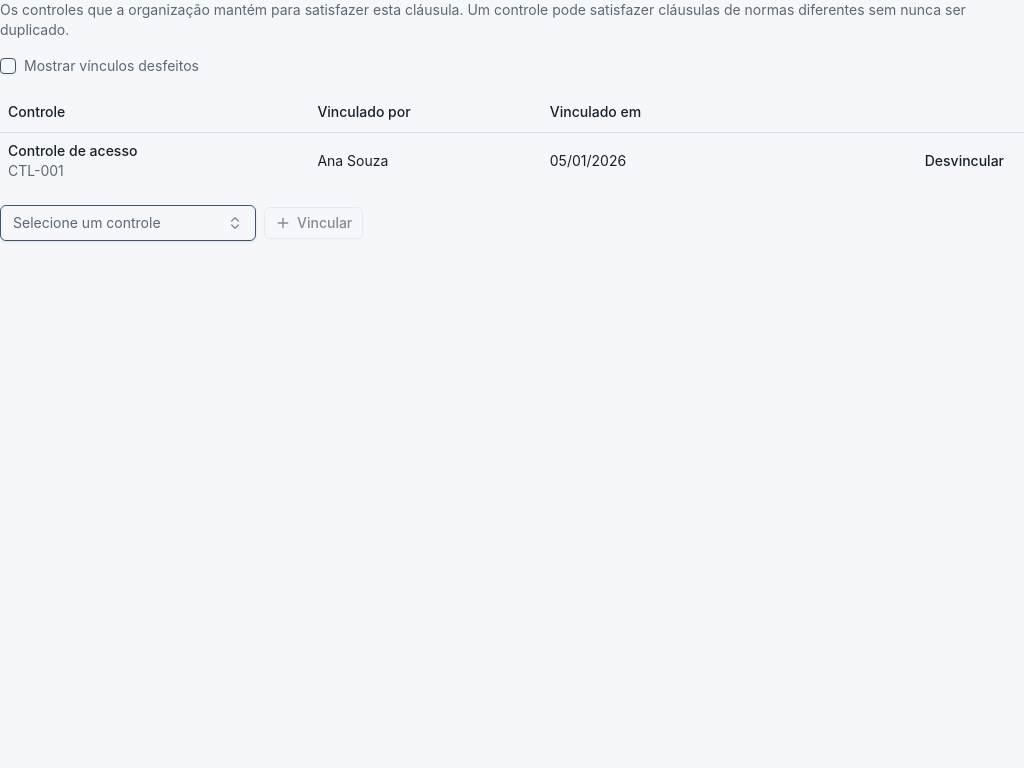
Test: RequirementControlsSection › asks for confirmation before unlinking, and states the link is retained in history, not erased (FR-011)
This screenshot has width=1024, height=768.
Click the button "Desvincular" at (964, 160), box [913,144,1016,176]
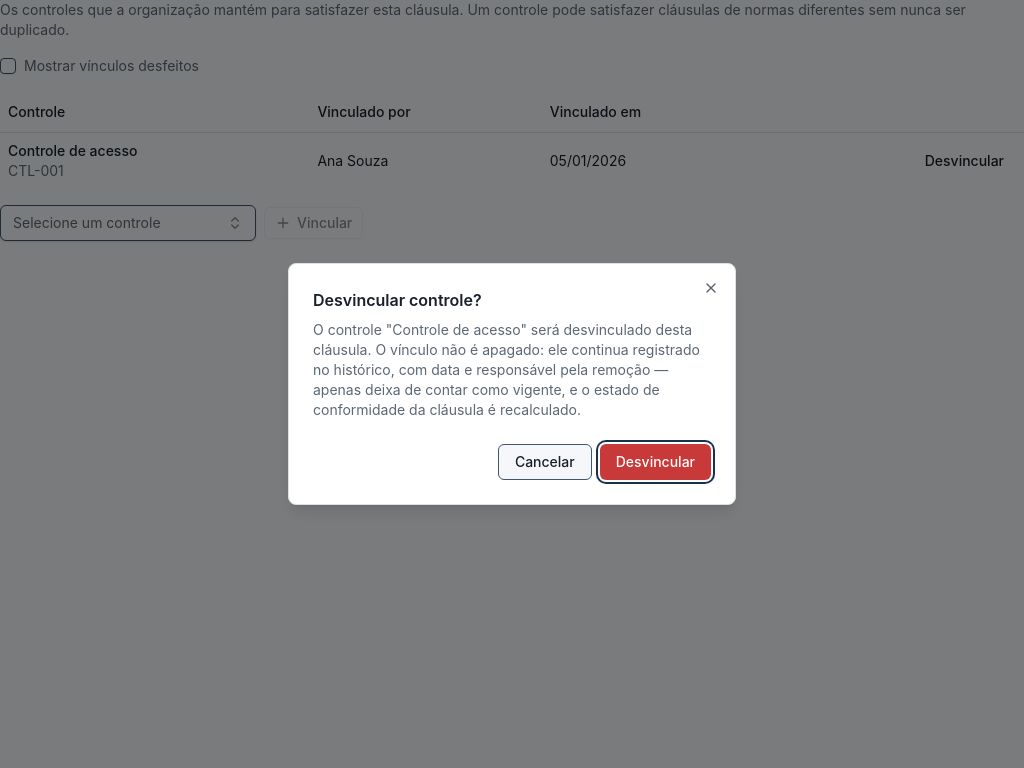
Now the heading "Desvincular controle?" is shown, box [313,290,482,310]
Now the text "O vínculo não é apagado: ele continua registrado no histórico" is shown, box [313,321,700,418]
